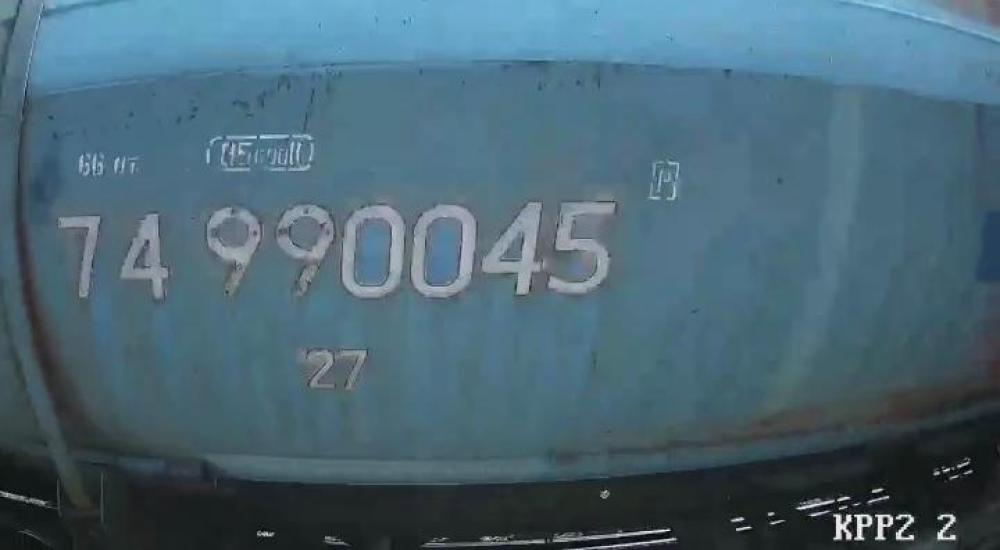Wagon-number: (51, 193, 626, 309)
